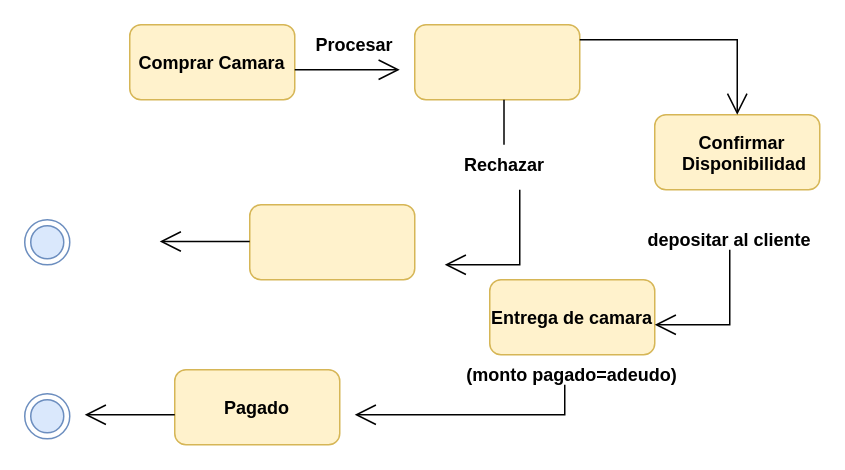
This 845x470 diagram has some shape labels left out. The shapes that lost their labels are listed below. From the top down, each one's centre as x and y in pixels, then its label:
At point (496, 61): "En Revision".
At point (331, 241): "Cancelar venta".
